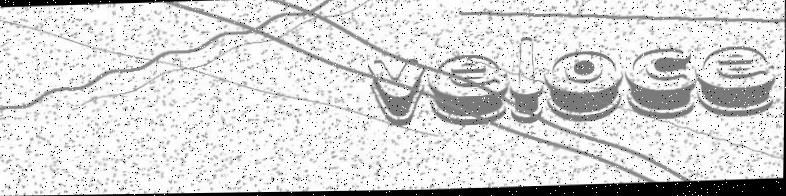c: (625, 50, 696, 123)
e: (427, 55, 511, 127), (696, 47, 777, 119)
l: (508, 38, 545, 123)
o: (544, 52, 624, 123)
v: (367, 60, 425, 127)
